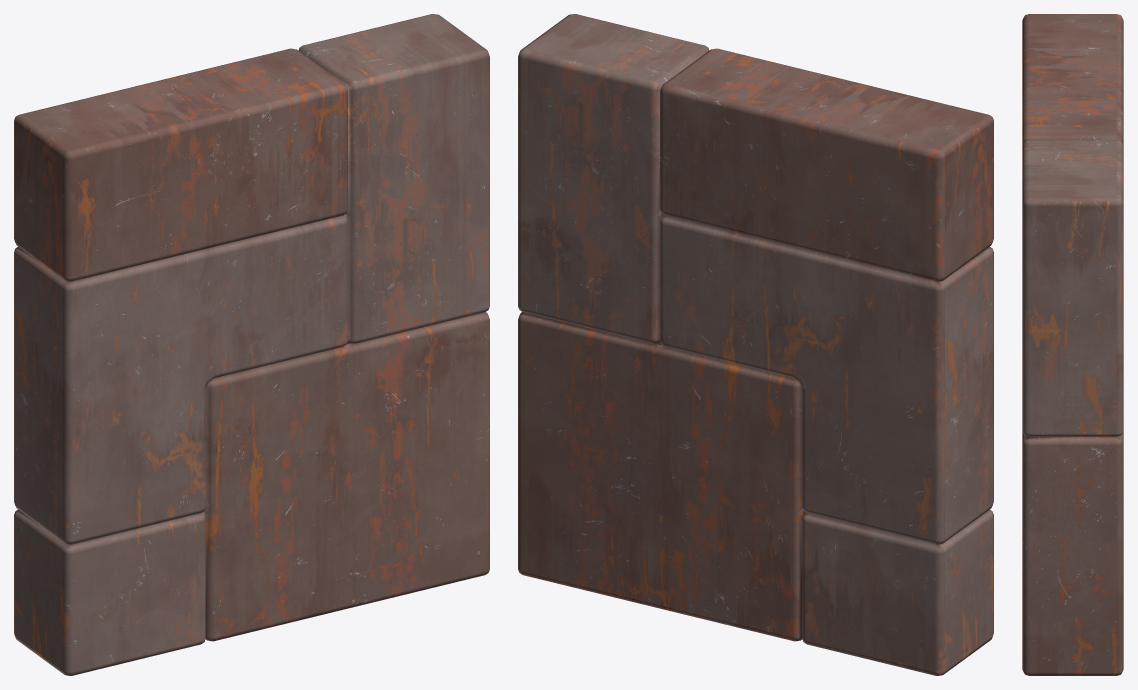
File: wall_008.fbx
3 views of the same model, side by side, from view 1: azimuth 30°, elevation 25°; view 2: azimuth 150°, elevation 25°; view 3: azimuth 270°, elevation 25° (orthographic). The views are drawn at different scales.
Visible parts, largest first — view 1: wall_008; view 2: wall_008; view 3: wall_008.
Boxes of the visible parts, x1=… form: wall_008: x1=14, y1=14, x2=489, y2=675; wall_008: x1=518, y1=14, x2=993, y2=675; wall_008: x1=1022, y1=14, x2=1123, y2=675.
Size of the model in its own units: 6638 by 1500 by 7826.
